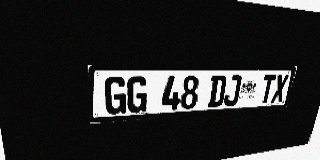4: (161, 76, 182, 111)
8: (180, 75, 200, 109)
D: (208, 75, 227, 107)
G: (104, 76, 127, 115), (127, 76, 148, 113)
J: (223, 75, 242, 106)
T: (258, 75, 277, 104)
X: (271, 74, 289, 103)
